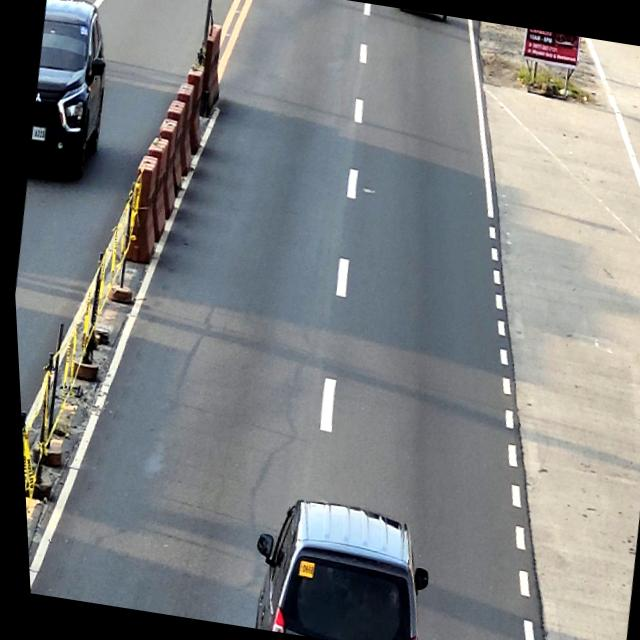Car: (234, 490, 434, 640), (19, 0, 122, 181)
License-Plate: (30, 126, 45, 142)
